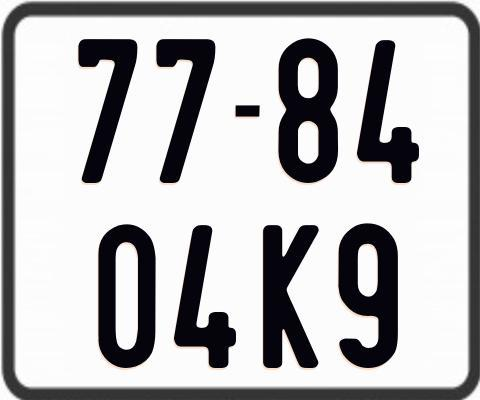0: (98, 222, 158, 372)
4: (356, 38, 423, 186), (172, 225, 236, 370)
7: (75, 38, 139, 183), (154, 38, 214, 185)
8: (275, 35, 341, 186)
9: (338, 222, 404, 368)
K: (261, 225, 323, 370)
